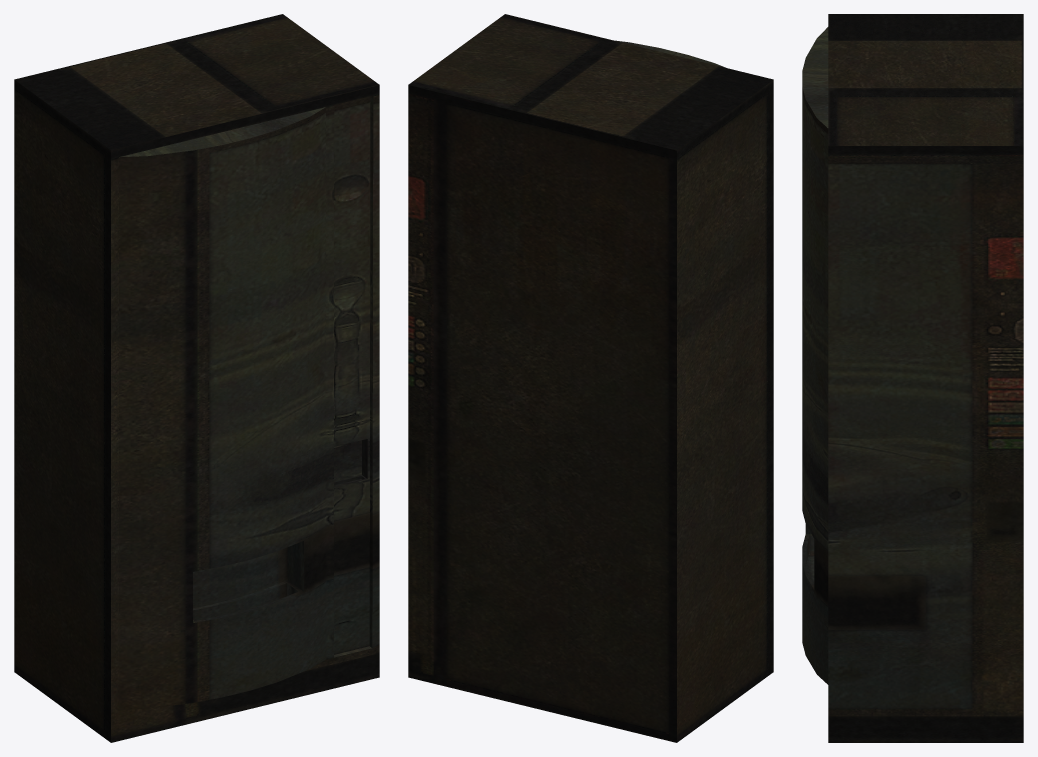
The model's file is vending_machine_1.obj.
3 renders of one model, left to right at view 1: azimuth 30°, elevation 25°; view 2: azimuth 150°, elevation 25°; view 3: azimuth 270°, elevation 25°, orthographic.
Parts seen in each view (by area): view 1: vending_machine_1; view 2: vending_machine_1; view 3: vending_machine_1.
Boxes of the visible parts, bbox=[...] form: vending_machine_1: bbox=[14, 14, 379, 742]; vending_machine_1: bbox=[408, 14, 773, 742]; vending_machine_1: bbox=[802, 14, 1023, 742].
Size of the model in its own units: 0.952 by 2.01 by 0.6751.
